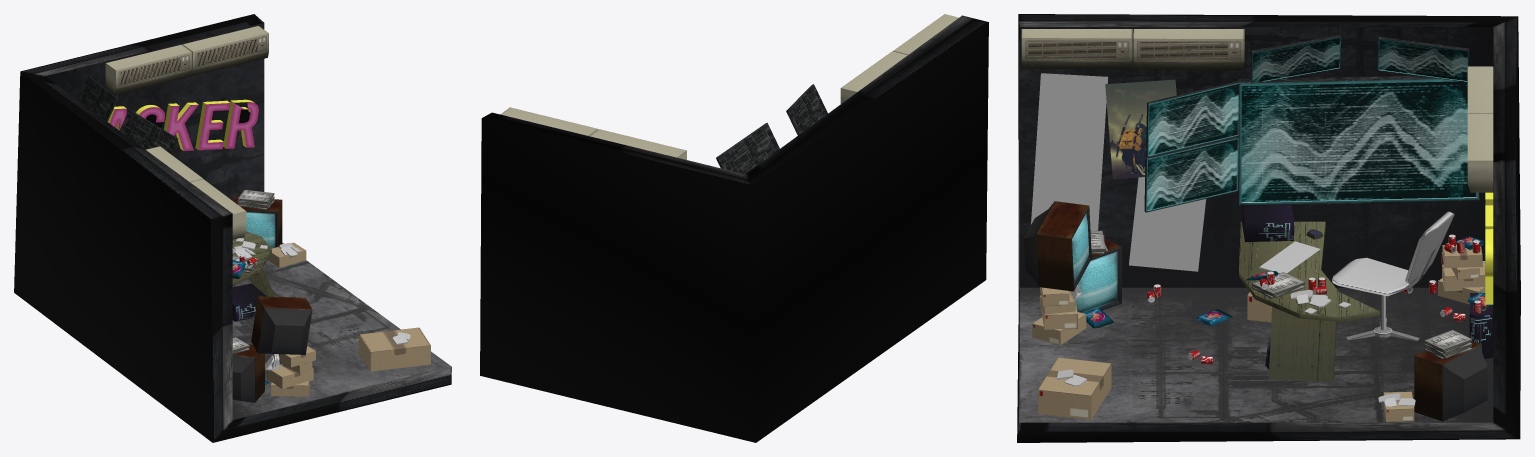
File: hacker room skatsh fabe.fbx
3 renders of one model, left to right at view 1: azimuth 30°, elevation 25°; view 2: azimuth 150°, elevation 25°; view 3: azimuth 270°, elevation 25°, orthographic. The views are drawn at different scales.
Parts seen in each view (by area): view 1: kamer:pCube1, text:typeMesh1, pCube13, erco:pCube1, pCube53, pCube63, pCube7, ouden_tv:pCube1, pCube50, pCube52, pCube54, pCube57 (+6 smaller); view 2: kamer:pCube1, pCube52, pCube50, pCube55, erco:pCube1, pCube53, pCube54; view 3: kamer:pCube1, tv:pCube1, giant_robot:pPlane1, pCube51, pCube49, tafel:pCube1, pCube13, blood_forest:pPlane1, pCube55, ouden_tv:pCube1, pCube54, tafel:pCube2 (+24 smaller).
Part boxes in pixels (bbox=[...]): kamer:pCube1: bbox=[14, 14, 451, 442]; text:typeMesh1: bbox=[108, 99, 258, 150]; pCube13: bbox=[251, 296, 312, 354]; erco:pCube1: bbox=[105, 44, 191, 94]; pCube53: bbox=[182, 26, 268, 75]; pCube63: bbox=[359, 327, 430, 371]; pCube7: bbox=[232, 344, 264, 402]; ouden_tv:pCube1: bbox=[232, 196, 282, 248]; pCube50: bbox=[119, 109, 178, 153]; pCube52: bbox=[77, 75, 117, 121]; pCube54: bbox=[190, 179, 246, 239]; pCube57: bbox=[232, 283, 266, 321]; kamer:pCube1: bbox=[480, 15, 988, 442]; pCube52: bbox=[716, 122, 779, 173]; pCube50: bbox=[786, 84, 827, 135]; pCube55: bbox=[840, 51, 907, 103]; erco:pCube1: bbox=[589, 129, 686, 159]; pCube53: bbox=[500, 107, 597, 135]; pCube54: bbox=[893, 14, 958, 54]; kamer:pCube1: bbox=[1017, 14, 1520, 442]; tv:pCube1: bbox=[1238, 75, 1479, 206]; giant_robot:pPlane1: bbox=[1031, 73, 1108, 230]; pCube51: bbox=[1144, 136, 1238, 212]; pCube49: bbox=[1146, 81, 1238, 157]; tafel:pCube1: bbox=[1239, 221, 1379, 321]; pCube13: bbox=[1024, 201, 1091, 291]; blood_forest:pPlane1: bbox=[1129, 177, 1205, 271]; pCube55: bbox=[1133, 29, 1244, 69]; ouden_tv:pCube1: bbox=[1414, 341, 1487, 421]; pCube54: bbox=[1021, 29, 1132, 69]; tafel:pCube2: bbox=[1268, 306, 1336, 382].
Size of the model in its own units: 2.01 by 1.82 by 2.88.
